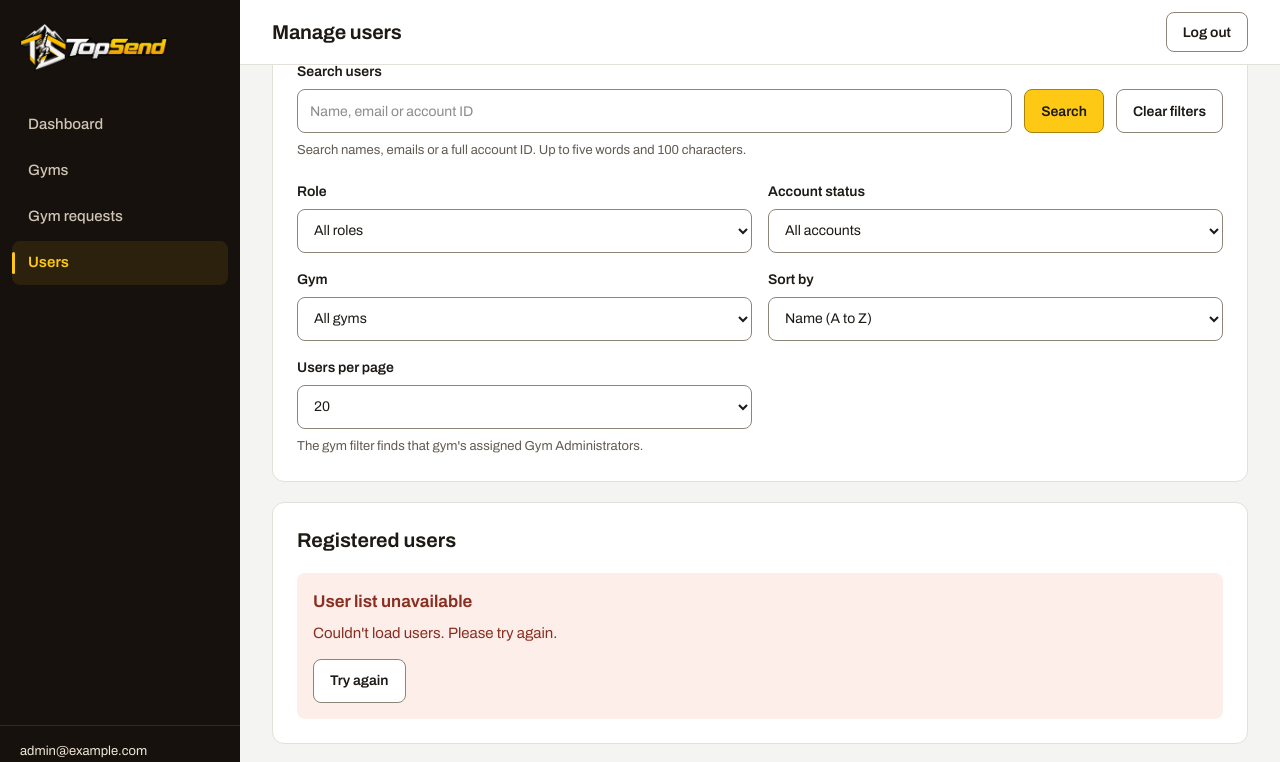
Test: US-008 / #146 user list and #147 supported search controls › shows safe list errors instead of an empty result (0)
The width and height of the screenshot is (1280, 762).
(page scrolled)
Check: the text "Couldn't load users. Please try again." is shown, box x1=313 y1=625 x2=558 y2=641
Step 1. Click the button "Try again" → (359, 681), box x1=313 y1=659 x2=406 y2=703
(page scrolled)
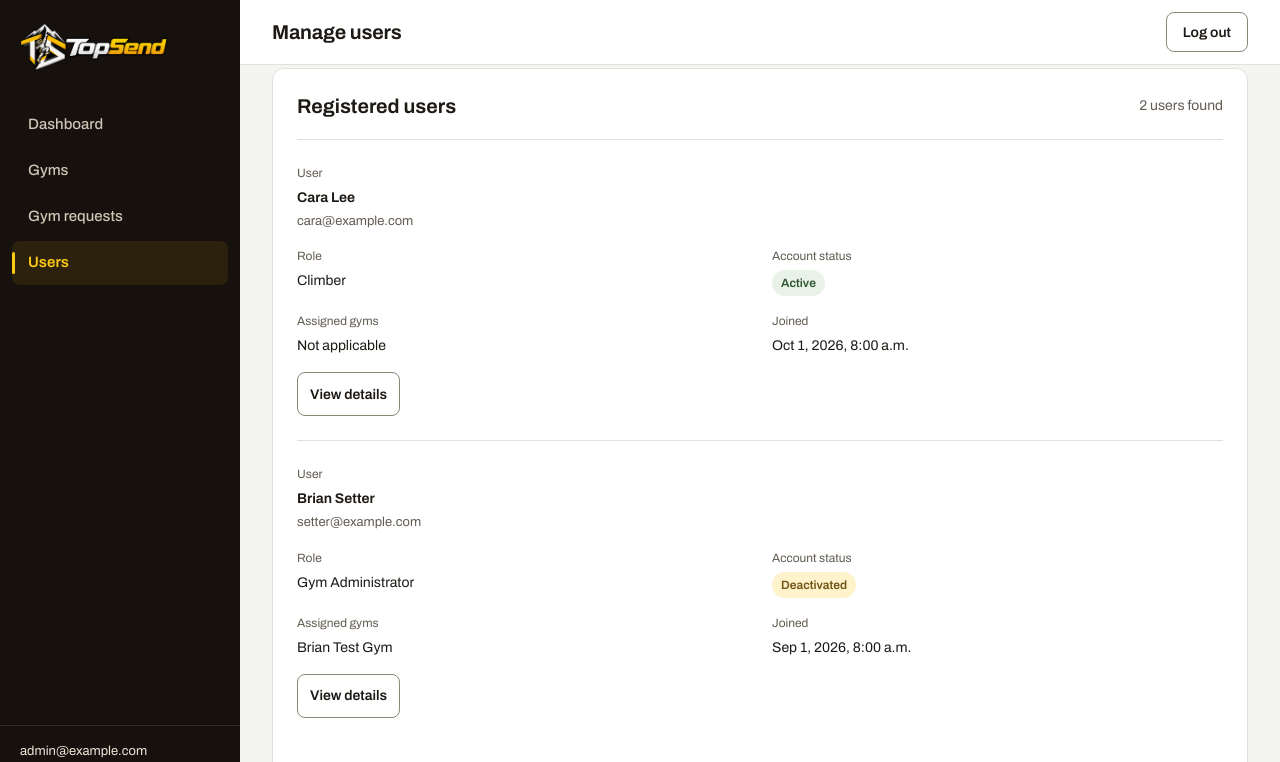
Check: the table is shown, box x1=297 y1=139 x2=1223 y2=742
